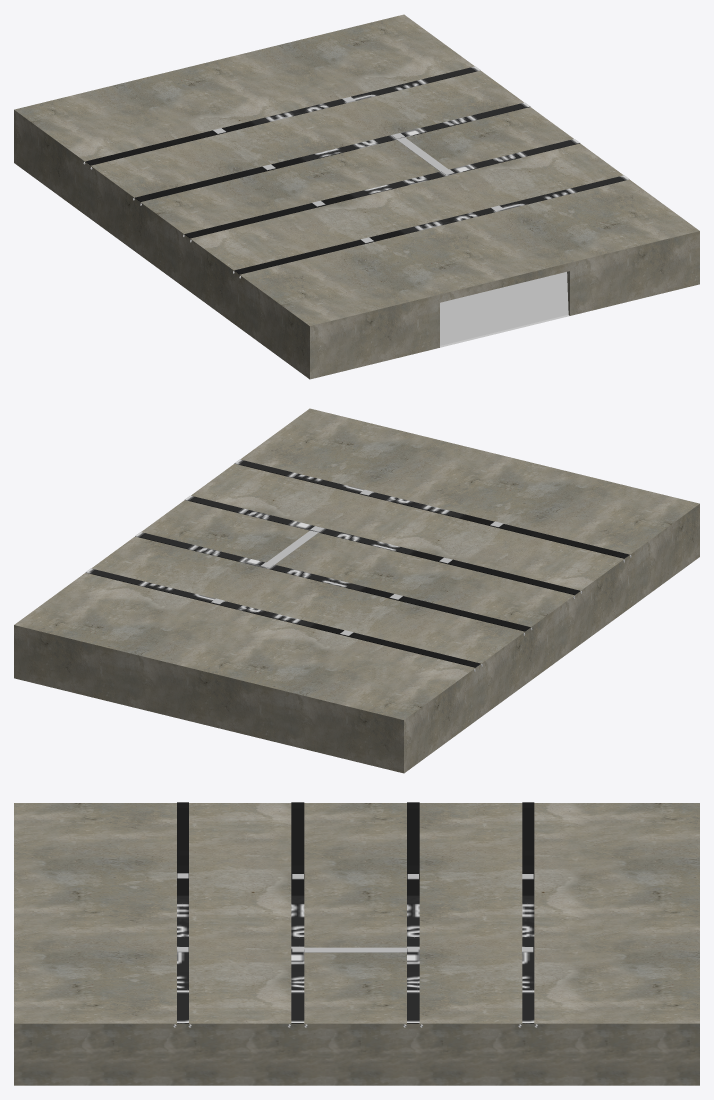
File: Garage.fbx
The picture shows the model from 3 angles, top to bottom: view 1: azimuth 30°, elevation 25°; view 2: azimuth 150°, elevation 25°; view 3: azimuth 270°, elevation 25°; orthographic projection. The views are drawn at different scales.
Parts seen in each view (by area): view 1: Cube.013, Cube.014, Cube.016, Cube.015, Cube.017; view 2: Cube.013, Cube.016, Cube.014, Cube.017, Cube.015; view 3: Cube.013, Cube.014, Cube.016, Cube.017, Cube.015, Cube.020.
Part boxes in pixels (x1,y1,x2,y2): Cube.013: (14,14,699,379); Cube.014: (184,139,579,238); Cube.016: (135,102,530,201); Cube.015: (234,175,629,274); Cube.017: (85,66,480,165); Cube.013: (14,408,699,773); Cube.016: (135,532,530,631); Cube.014: (184,495,579,595); Cube.017: (85,568,480,667); Cube.015: (234,459,629,558); Cube.013: (14,803,699,1085); Cube.014: (291,802,304,1023); Cube.016: (407,802,419,1023); Cube.017: (522,802,534,1023); Cube.015: (177,802,188,1023); Cube.020: (304,947,406,952).
Size of the model in its own units: 9111 by 1228 by 11947.
